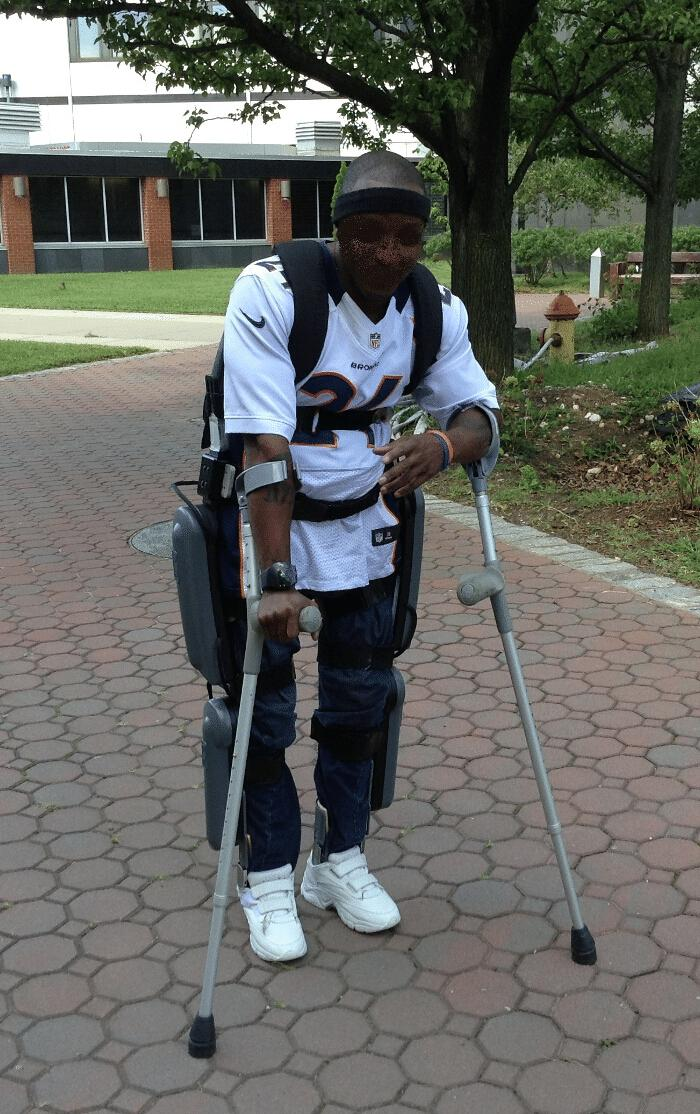crutches: (172, 150, 597, 1059)
